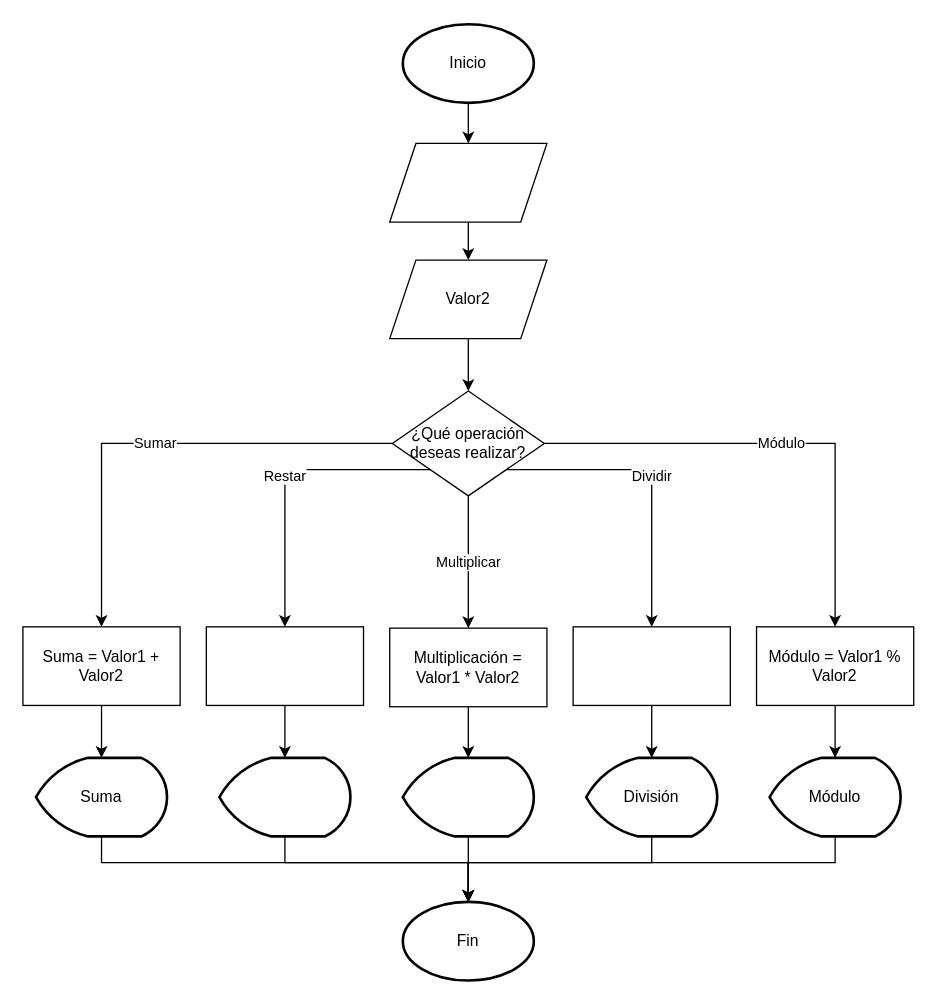
Image size: 937x1003. Some labels were removed from this diagram. Here are the shapes that lost their labels. From the top down, the box of each, then its label:
(388, 142, 547, 222): Valor1
(205, 626, 364, 705): Resta = Valor1 - Valor2
(572, 626, 730, 705): División =Valor1 / Valor2
(217, 756, 351, 837): Resta
(401, 756, 534, 837): Multiplicación
